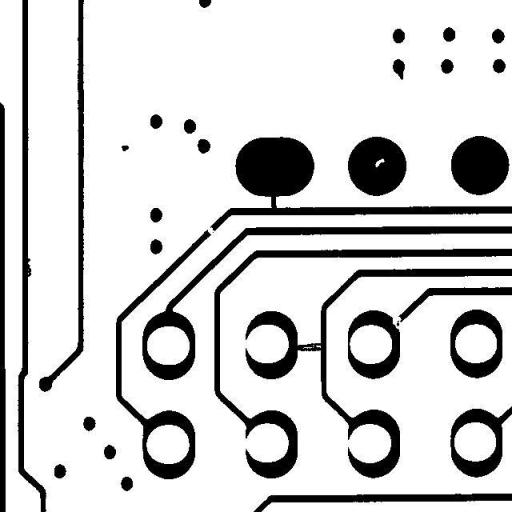copper: (114, 138, 136, 158)
open: (385, 304, 409, 338), (198, 218, 224, 242)
pin-hole: (367, 150, 392, 174)
short: (283, 336, 332, 358), (263, 182, 284, 217)
spur: (16, 250, 38, 285), (389, 60, 410, 87)
